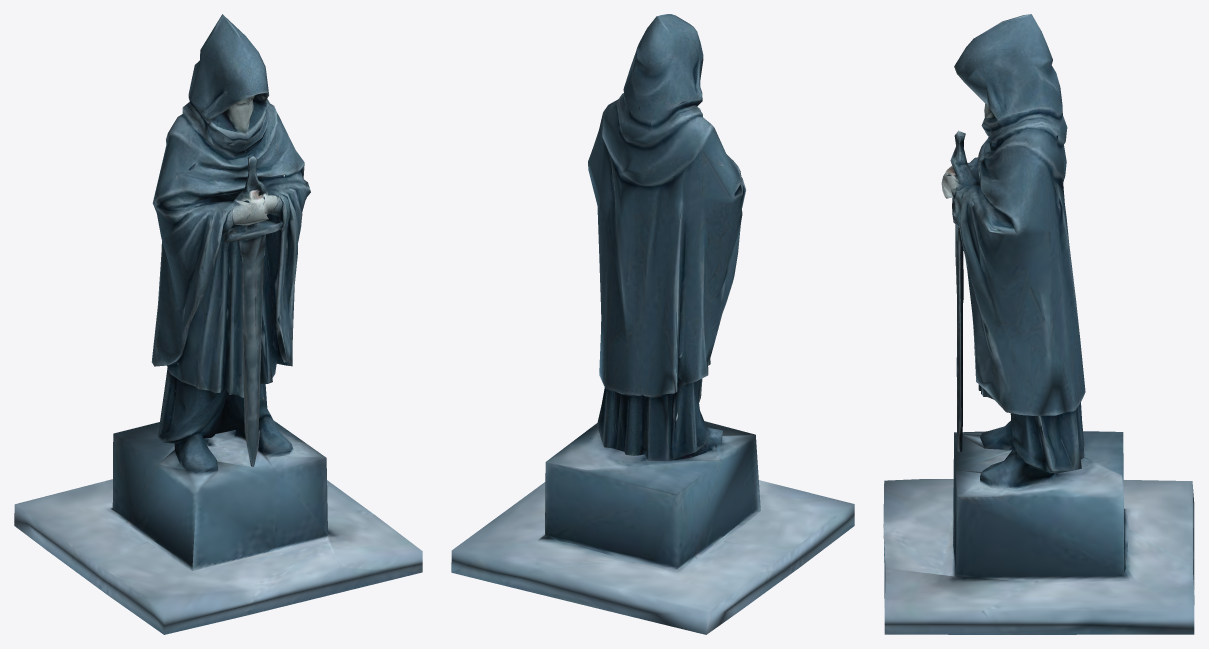
The model's file is statue.glb.
The picture shows the model from 3 angles, left to right: view 1: azimuth 30°, elevation 25°; view 2: azimuth 150°, elevation 25°; view 3: azimuth 270°, elevation 25°; orthographic projection. The views are drawn at different scales.
Size of the model in its own units: 0.9617 by 1.9 by 0.9626.
Materials: 1 (1 with a texture image).
